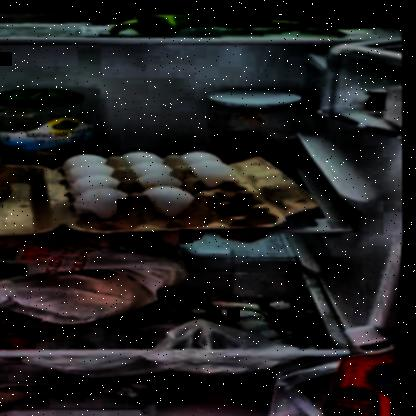eggs: (66, 140, 242, 222)
tomato: (0, 324, 49, 352), (28, 315, 81, 339)
